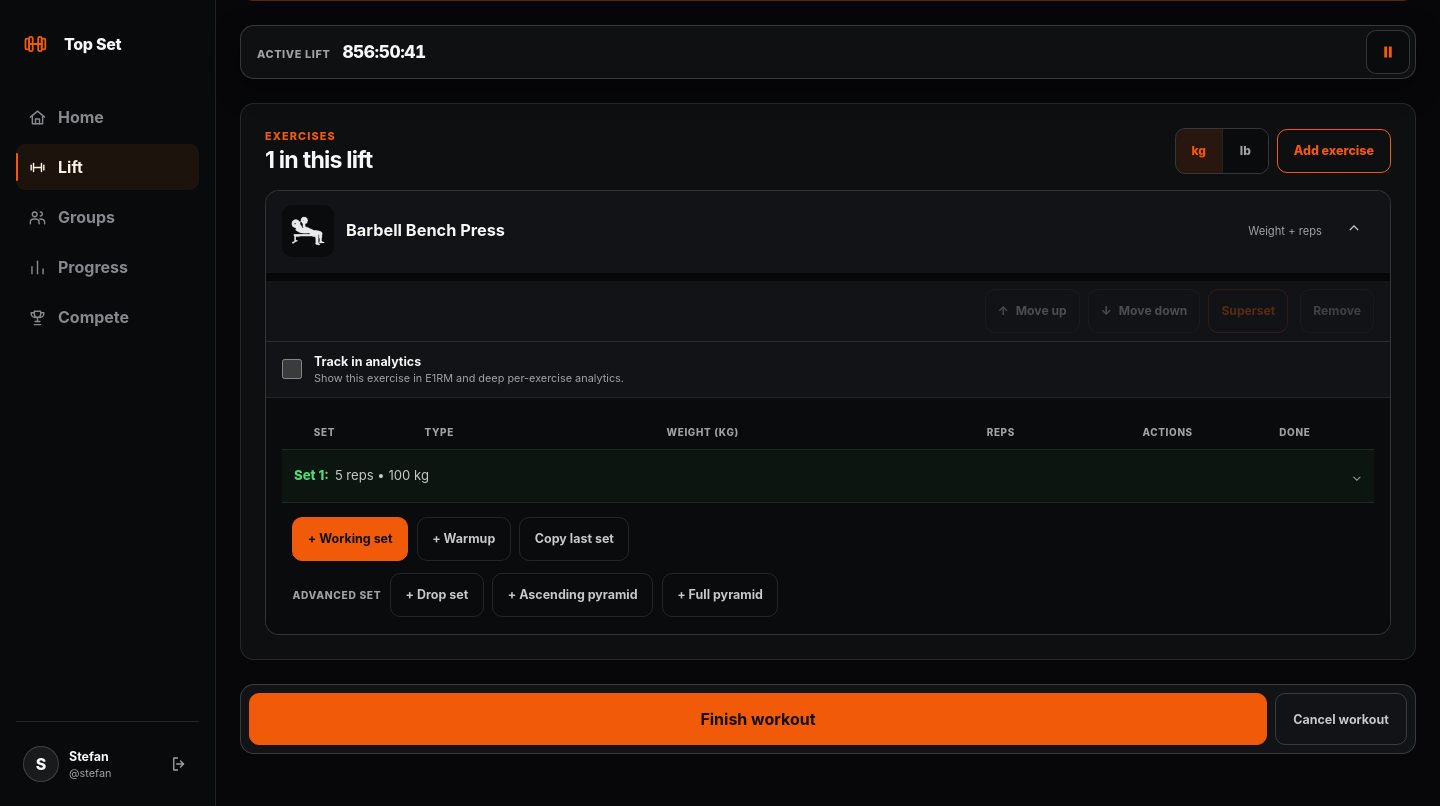
Scenario: workout reliability integration gate › re-checks the server after a finish race and does not revive the terminal workout
(page scrolled)
What coordinates should you click on to do the following:
click the button "Finish workout"
I would click on:
 (758, 719)
Its box is [249,693,1267,745].
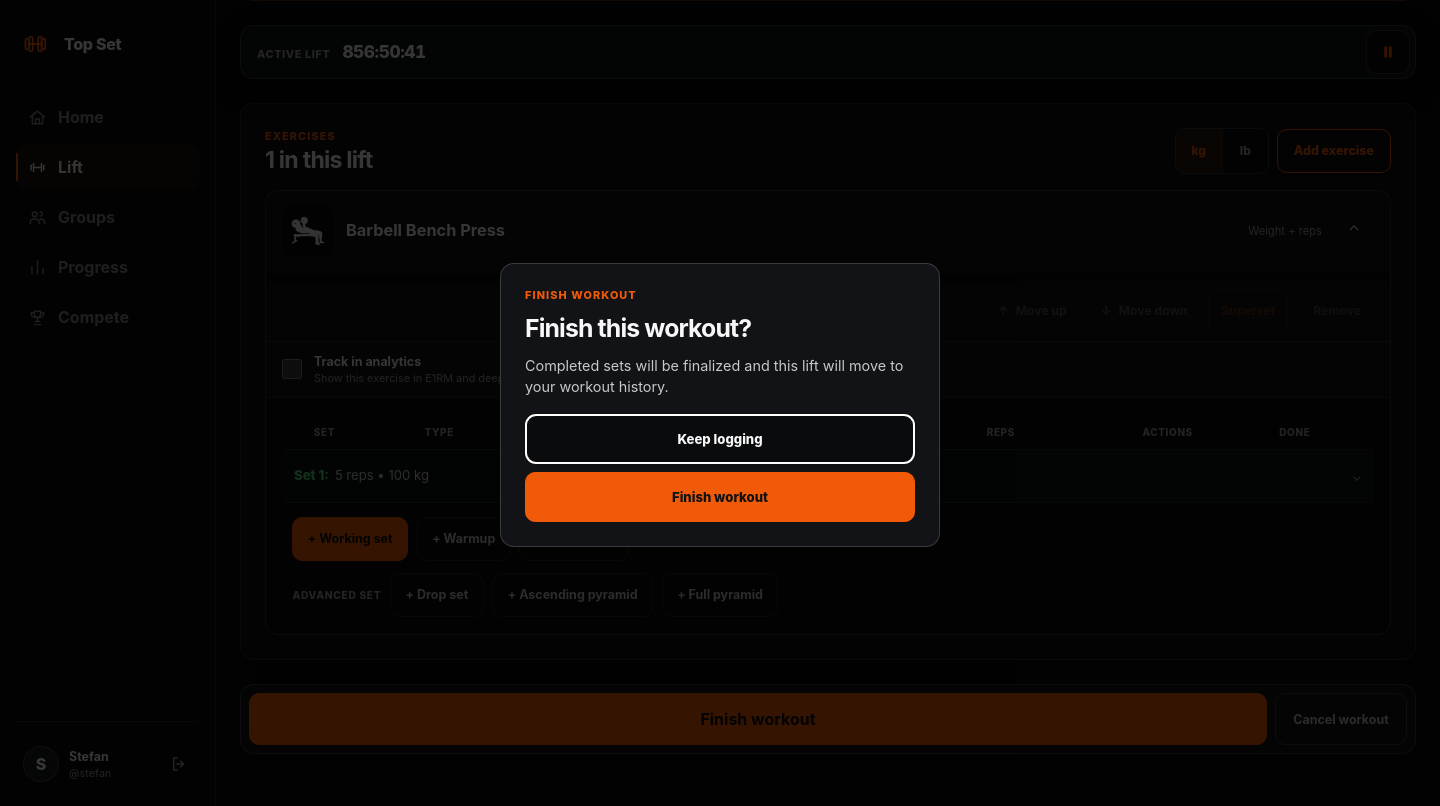
What coordinates should you click on to do the following:
click the button "Finish workout"
I would click on:
 (720, 497)
Its box is [525,472,915,522].
(page scrolled)
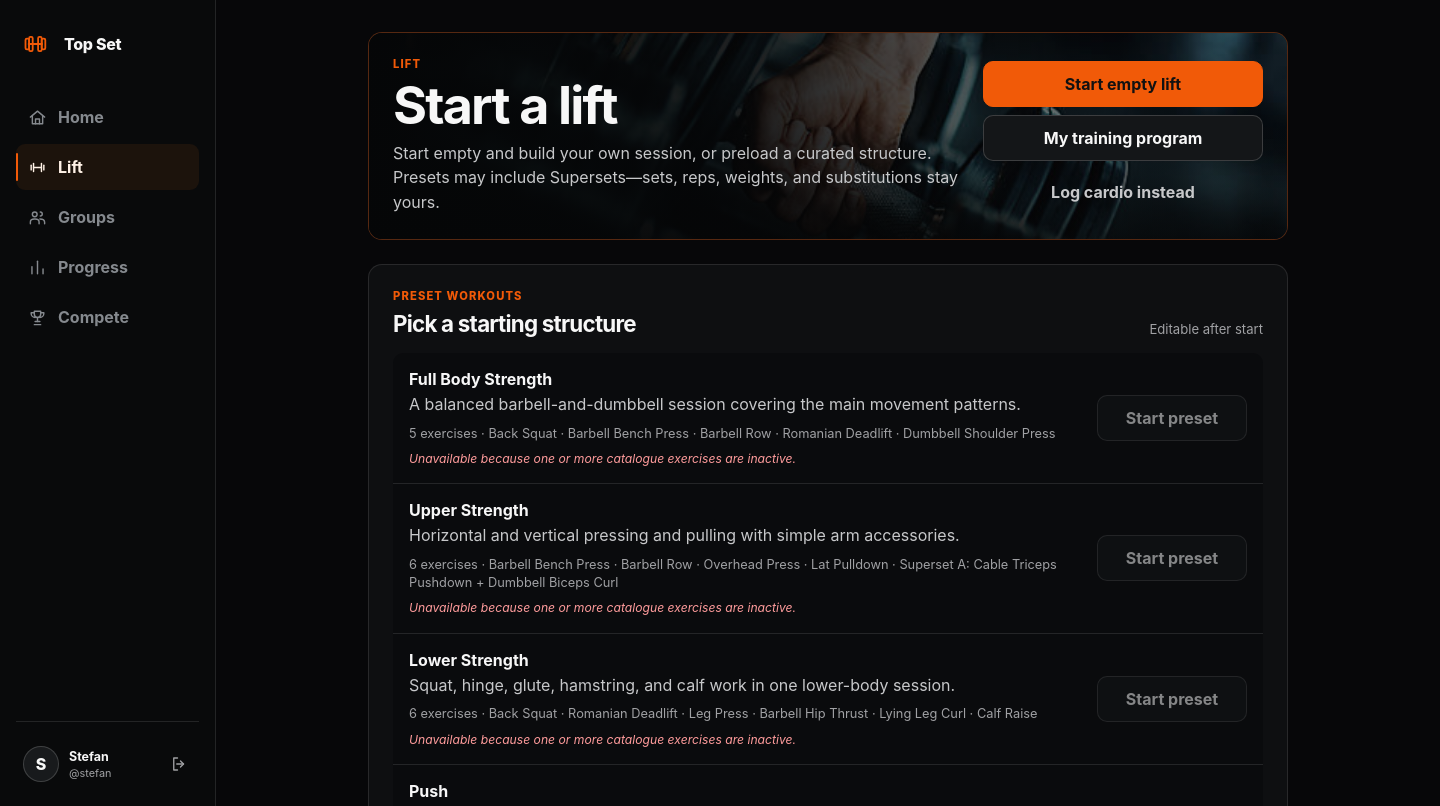
Result: the heading "Start a lift" is shown at [393,74,617,137]
